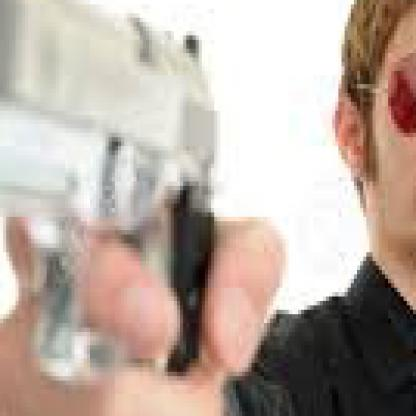gun: (0, 0, 215, 390)
